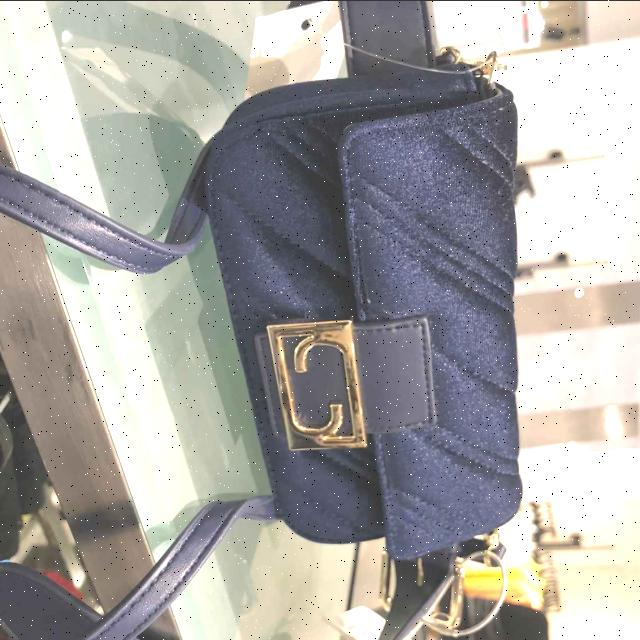Handbag: (206, 68, 524, 564)
